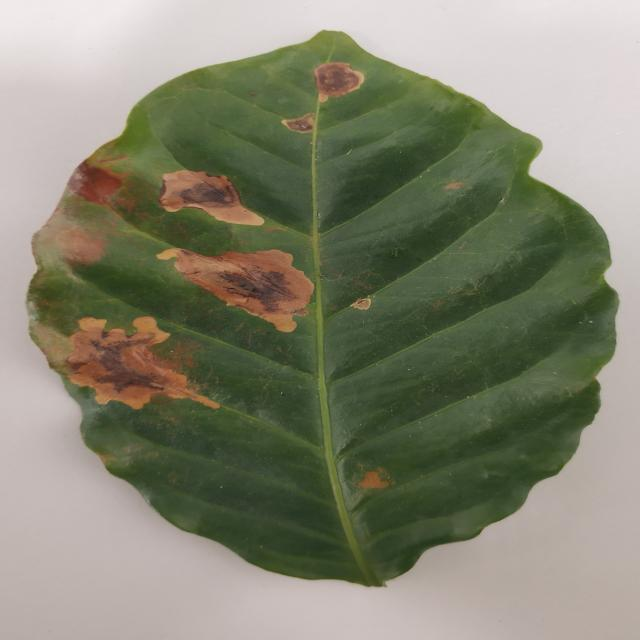Plaga-Minador: (25, 30, 620, 590)
